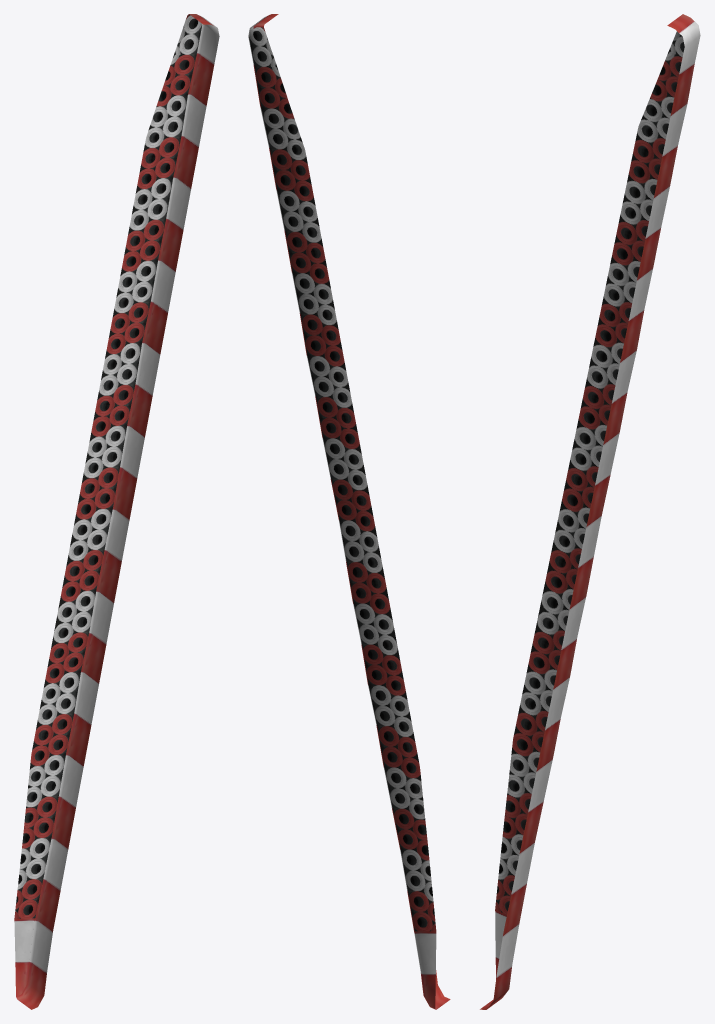
File: _1WALL_tires01_04_Scene.380.obj
The picture shows the model from 3 angles, left to right: view 1: azimuth 30°, elevation 25°; view 2: azimuth 150°, elevation 25°; view 3: azimuth 330°, elevation 25°; orthographic projection. The views are drawn at different scales.
Visible parts, largest first — view 1: _1WALL_tires01_04_Scene.380; view 2: _1WALL_tires01_04_Scene.380; view 3: _1WALL_tires01_04_Scene.380.
Part boxes in pixels (left/top/right/bottom): _1WALL_tires01_04_Scene.380: left=14, top=14, right=219, bottom=1009; _1WALL_tires01_04_Scene.380: left=248, top=14, right=450, bottom=1009; _1WALL_tires01_04_Scene.380: left=480, top=14, right=700, bottom=1009.
Size of the model in its own units: 7.86 by 37.43 by 1.19.
